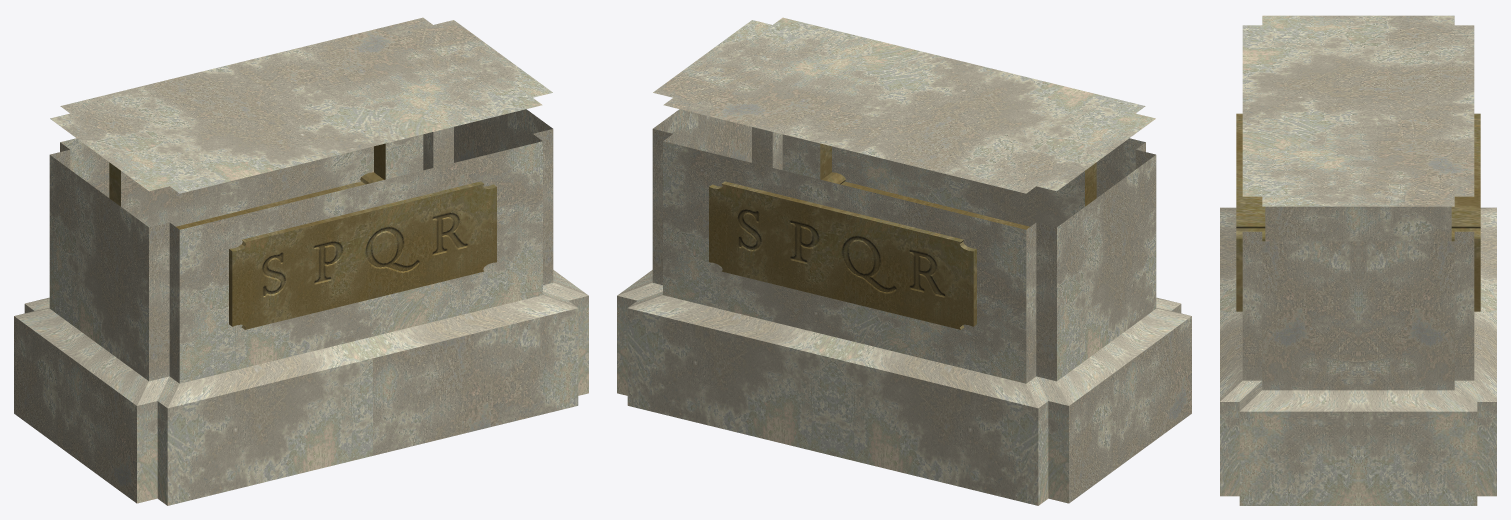
File: capitoline_wolf_pedestal.dae
3 views of the same model, side by side, from view 1: azimuth 30°, elevation 25°; view 2: azimuth 150°, elevation 25°; view 3: azimuth 270°, elevation 25° (orthographic). The views are drawn at different scales.
Visible parts, largest first — view 1: capitoline_wolf_pedestal; view 2: capitoline_wolf_pedestal; view 3: capitoline_wolf_pedestal.
Boxes of the visible parts, left/top/right/bottom form: capitoline_wolf_pedestal: left=14, top=17, right=588, bottom=505; capitoline_wolf_pedestal: left=617, top=17, right=1191, bottom=505; capitoline_wolf_pedestal: left=1220, top=15, right=1496, bottom=505.
Bounding box in the file's own units: 12.36 × 6.78 × 7.78.
